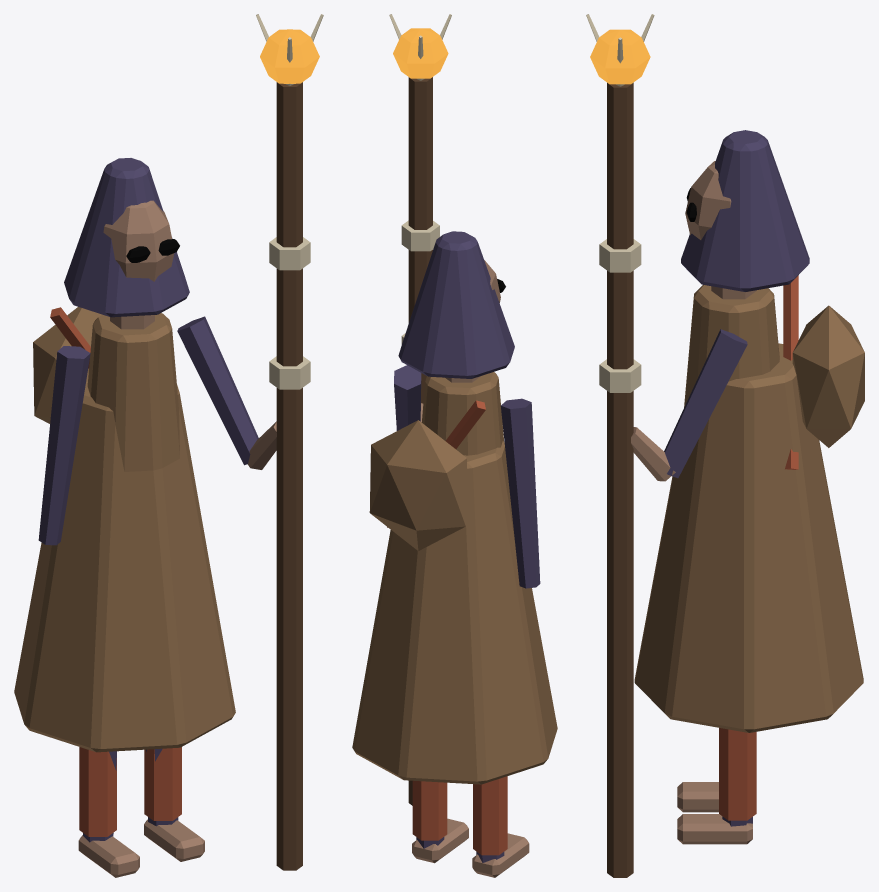
File: exo-vell.glb
3 renders of one model, left to right at view 1: azimuth 30°, elevation 25°; view 2: azimuth 150°, elevation 25°; view 3: azimuth 270°, elevation 25°, orthographic. The views are drawn at different scales.
Parts seen in each view (by area): view 1: body; view 2: body; view 3: body.
Part boxes in pixels (<box>): body: <box>14,14,323,877</box>; body: <box>352,14,557,877</box>; body: <box>586,14,864,877</box>.
Bounding box in the file's own units: 1.43 × 4.95 × 1.47.
